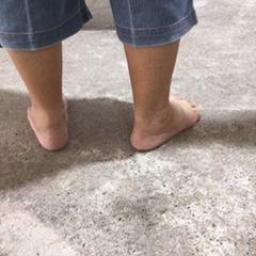Back View -Both Feet-: (16, 76, 206, 170)
